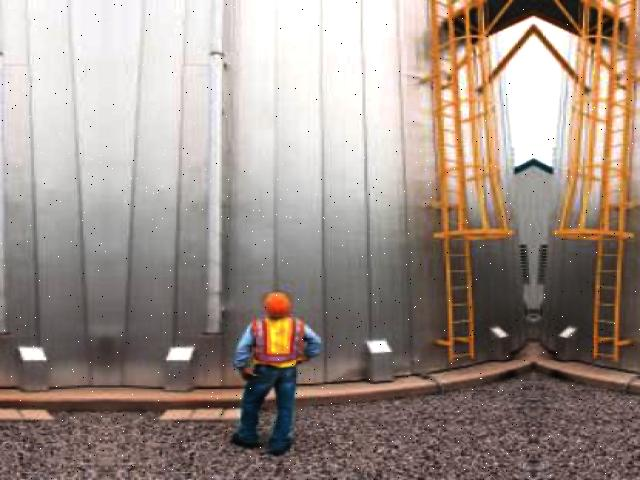Helmet: (255, 288, 292, 320)
